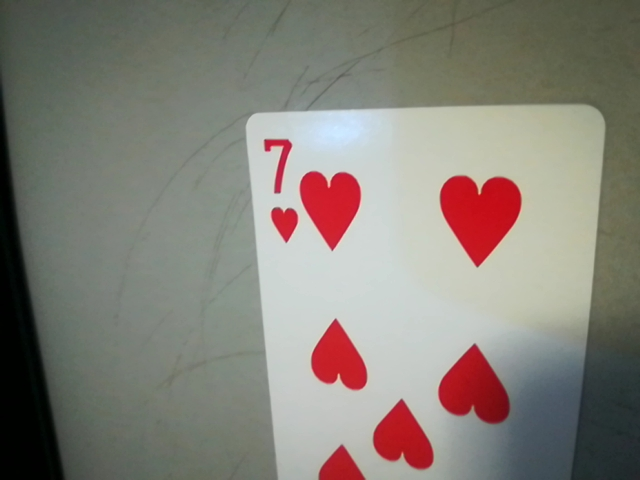hx 7: (252, 128, 305, 252)
